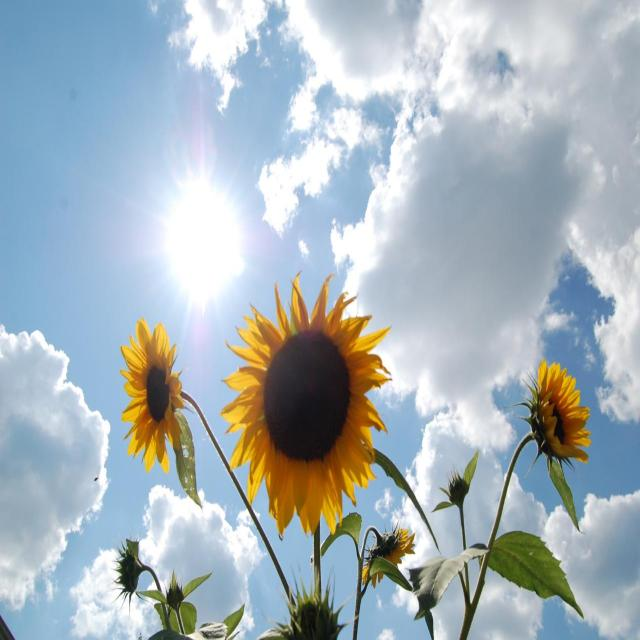sunflower: (217, 258, 393, 537), (116, 314, 186, 482), (524, 350, 594, 484), (354, 515, 420, 586), (112, 529, 144, 620)
